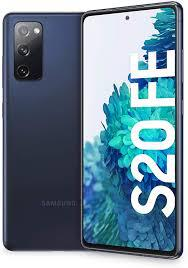Smartphone: (84, 8, 182, 259), (8, 16, 82, 250)
